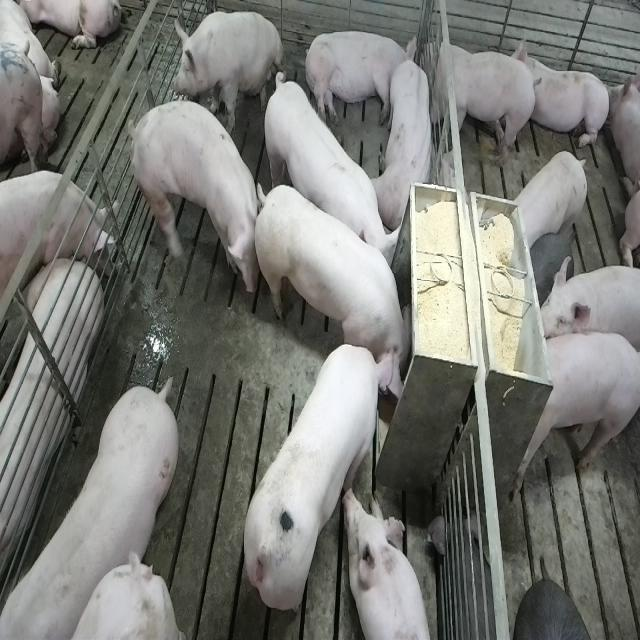Feeding: (242, 338, 402, 616), (258, 175, 421, 382)
Lateral_lying: (0, 252, 101, 607), (303, 28, 419, 128)
Sitting: (172, 9, 284, 133)
Standing: (5, 373, 184, 638), (260, 67, 399, 286), (121, 95, 260, 312), (508, 332, 638, 502), (420, 33, 540, 175), (0, 168, 117, 300), (535, 253, 640, 373), (511, 151, 588, 251)
Sternal_lying: (345, 488, 435, 640), (516, 35, 613, 154), (375, 54, 437, 231)
